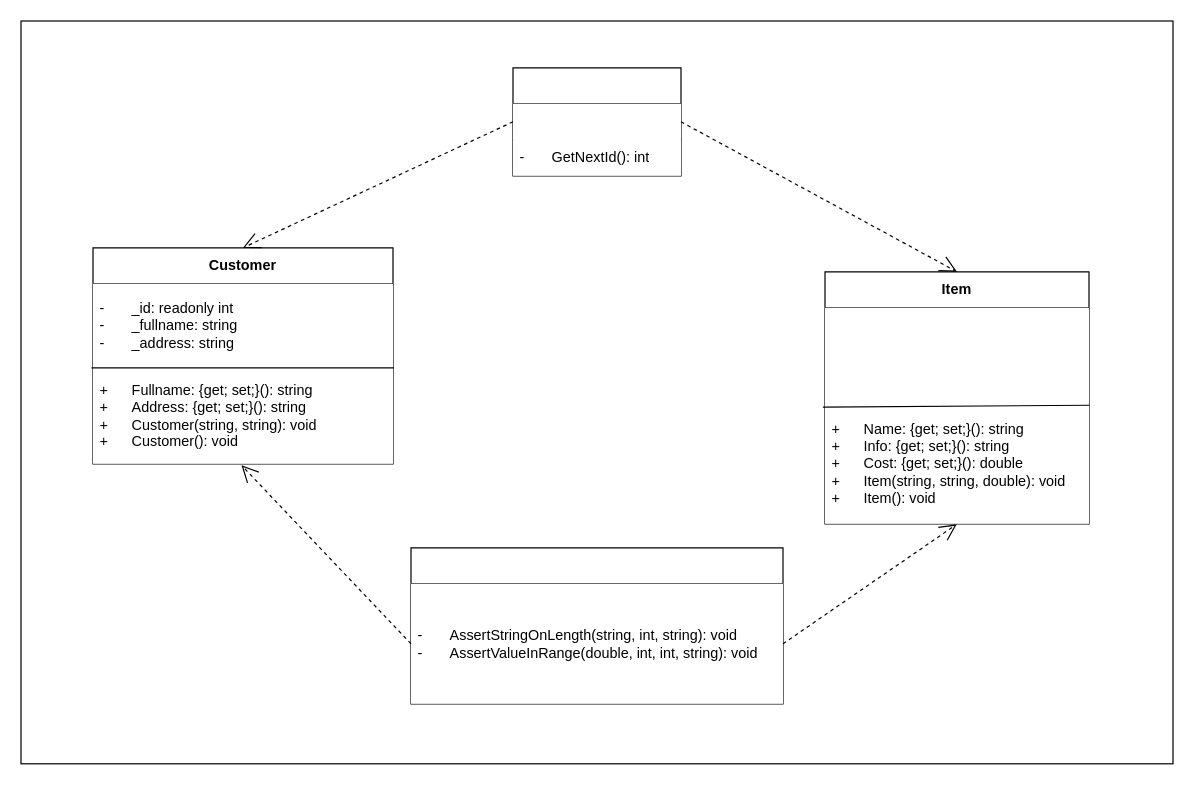
This 1194x785 diagram has some shape labels left out. Each missing label, with the box of its shape:
- _id: readonly int - _name: string - _info: string - _cost: double: (824, 307, 1088, 403)
- _nextId: int: (512, 103, 680, 139)
IdGenerator: (512, 67, 681, 176)
ValueValidator: (410, 547, 783, 704)
